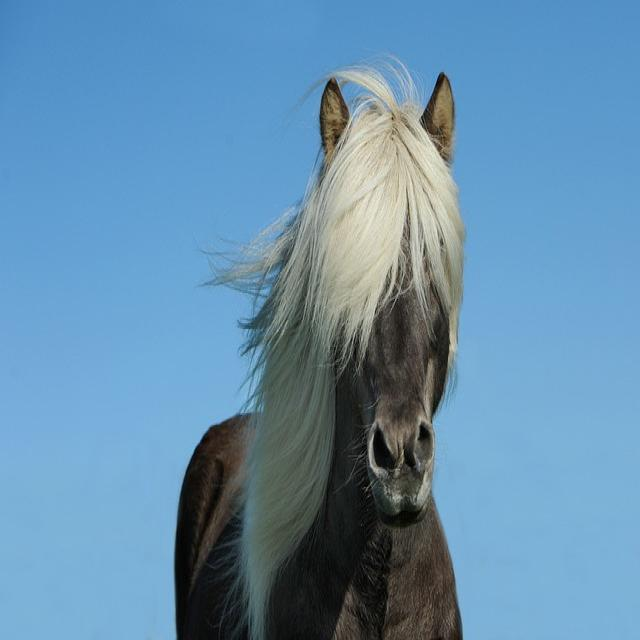Herbivorous: (176, 74, 467, 640)
